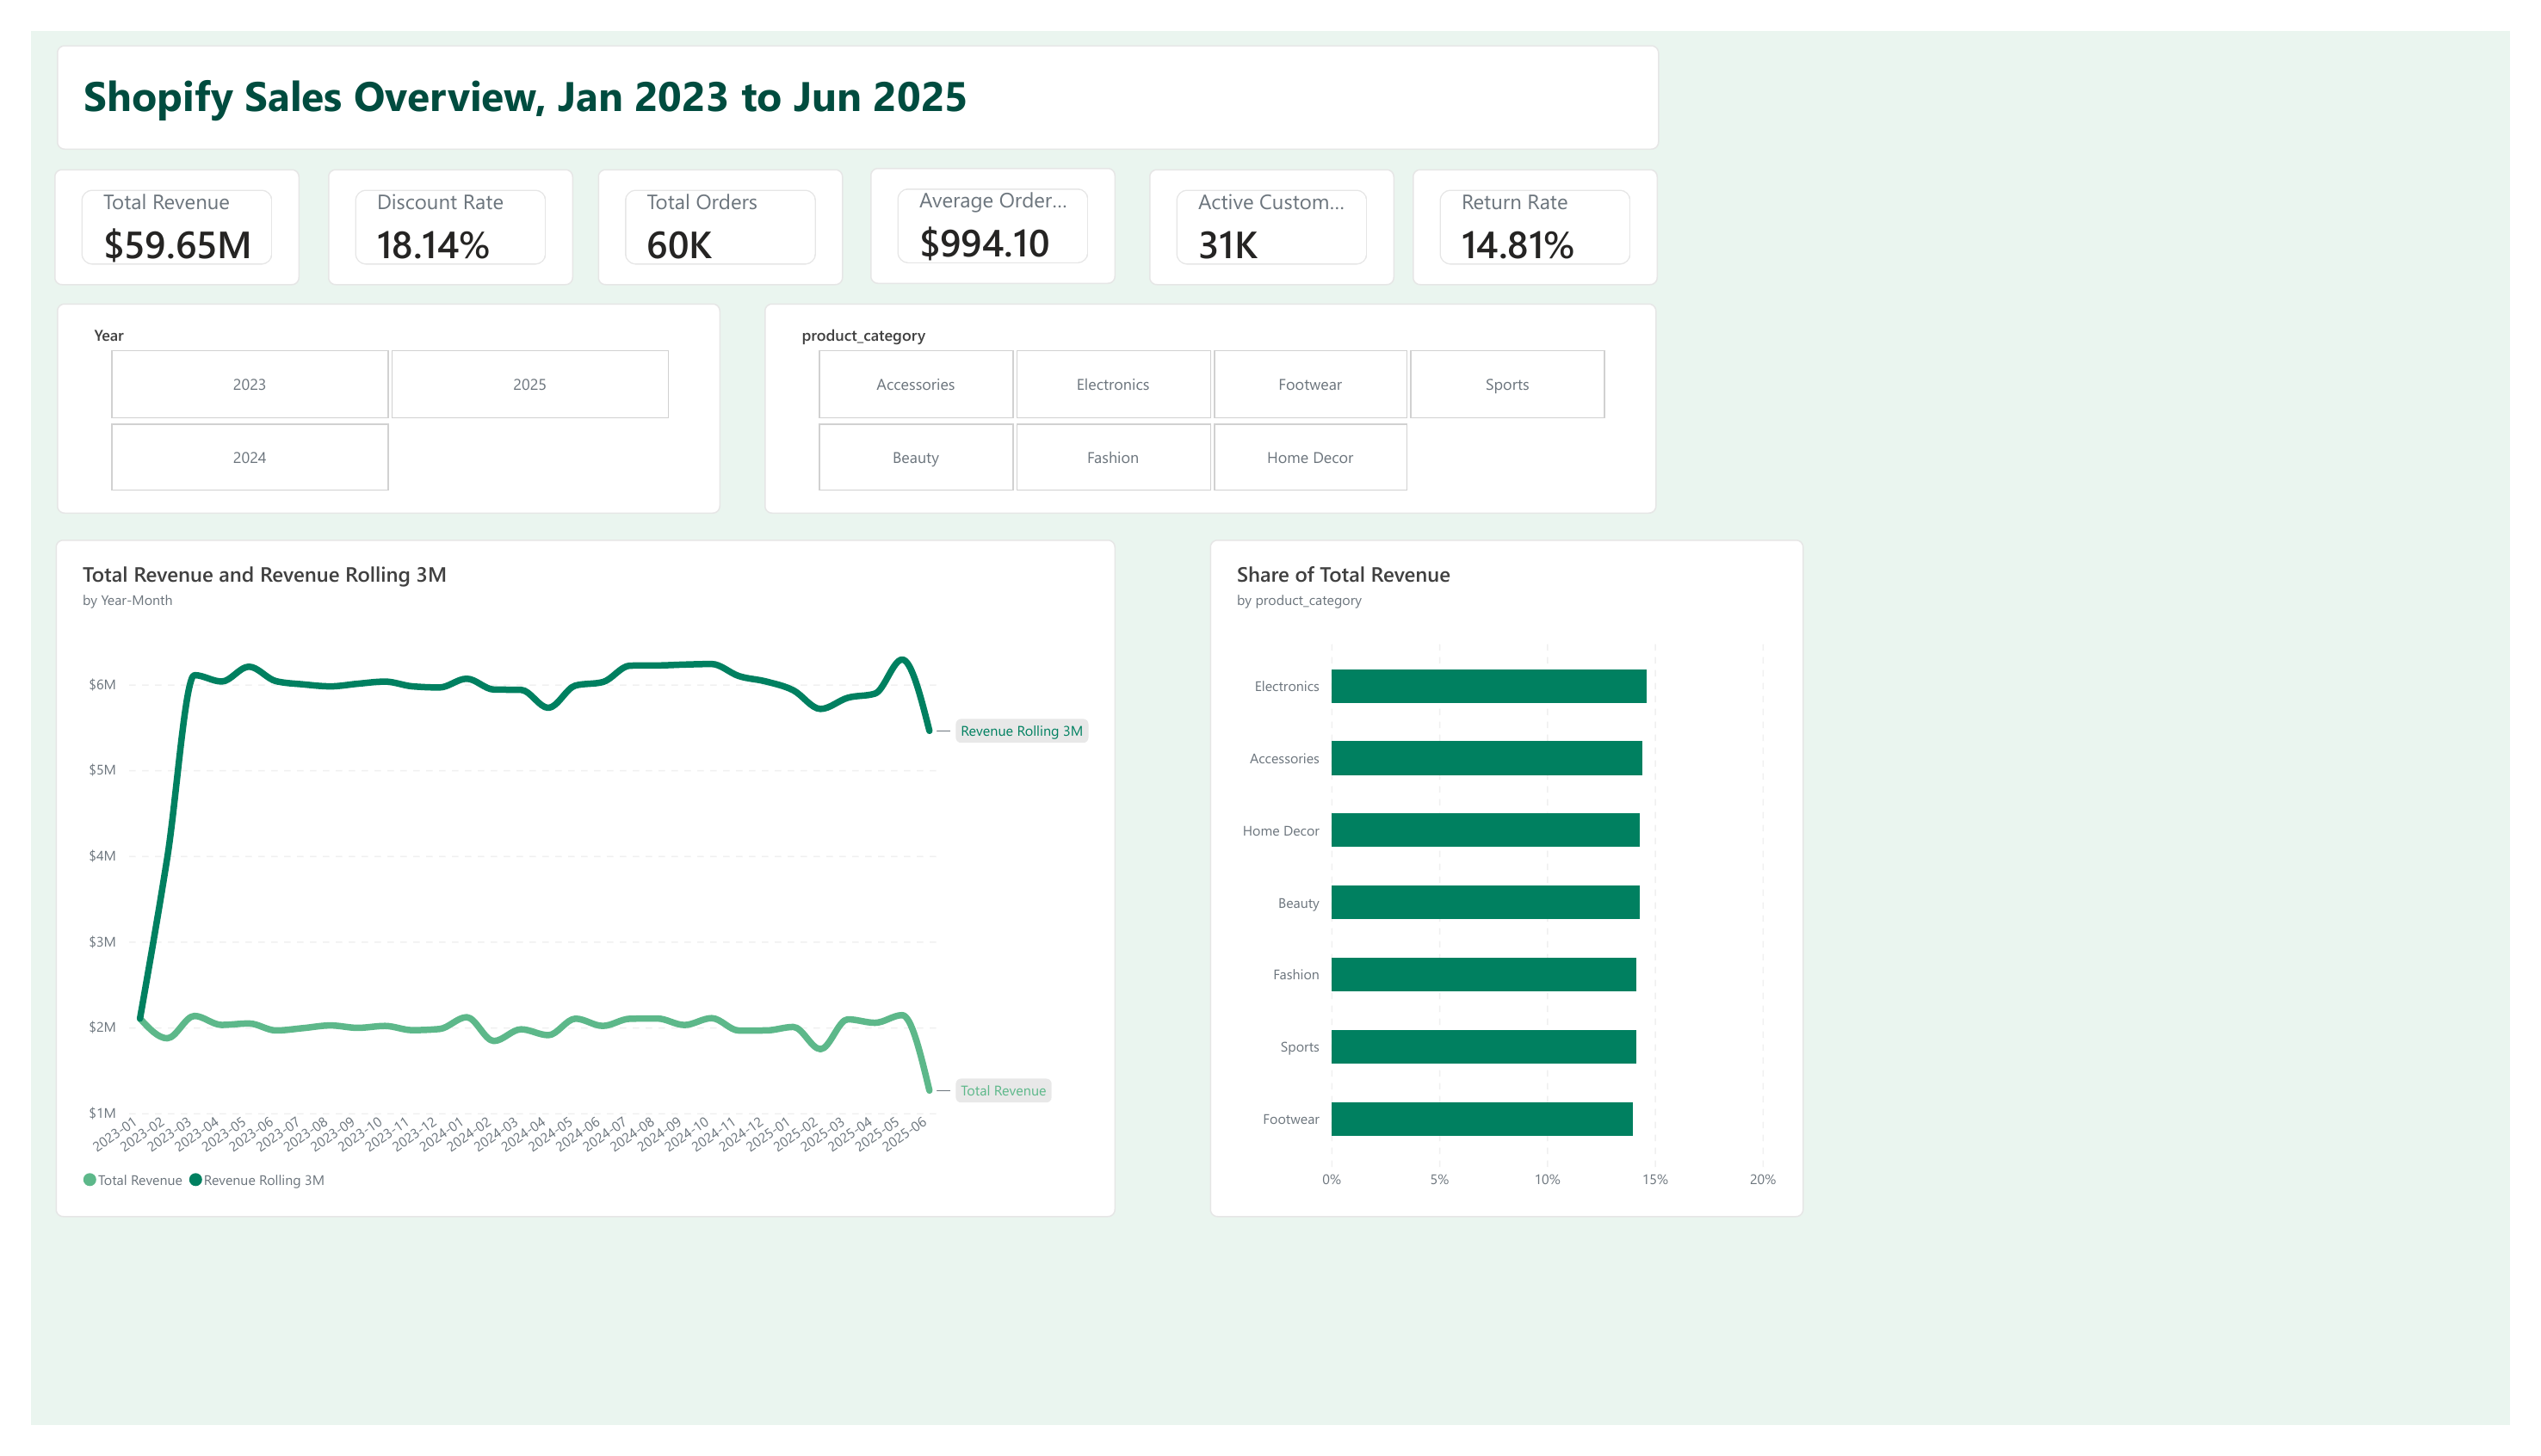

The page's visual inventory and layout, read from the dashboard file:
{"tool":"powerbi","page":{"name":"Overview","canvas":[1920,1080],"ordinal":0},"visuals":[{"type":"cardVisual","fields":{"Data":["_Measures.Total Revenue"]},"box":[18.4,106.6,190,90],"z":0},{"type":"cardVisual","fields":{"Data":["_Measures.Total Orders"]},"box":[439.5,106.6,190,90],"z":1000},{"type":"cardVisual","fields":{"Data":["_Measures.Average Order Value"]},"box":[650,106.6,190,90],"z":2000},{"type":"cardVisual","fields":{"Data":["_Measures.Return Rate"]},"box":[1069.7,106.6,190,90],"z":3000},{"type":"lineChart","fields":{"Category":["Date.Year-Month"],"Y":["_Measures.Total Revenue","_Measures.Revenue Rolling 3M"]},"box":[18.4,394.7,460,525],"z":4000},{"type":"slicer","fields":{"Values":["Date.Year"]},"box":[19.7,210.5,514.5,163.2],"z":5000},{"type":"slicer","fields":{"Values":["Category.product_category"]},"box":[568.4,210.5,690.8,163.2],"z":6000},{"type":"clusteredBarChart","fields":{"Category":["Category.product_category"],"Y":["_Measures.Share of Total Revenue"]},"box":[534.2,394.7,460,525],"z":7000},{"type":"textbox","box":[19.7,10.5,1240.8,81.6],"z":8000},{"type":"cardVisual","fields":{"Data":["_Measures.Active Customers"]},"box":[865.8,106.6,190,90],"z":8001},{"type":"cardVisual","fields":{"Data":["_Measures.Total Profit"]},"box":[230.3,106.6,190,90],"z":8002}]}

Visuals, with their boxes in screenshot pixels (x1, y1, x2, y2), scaled from the page's 1920x1080 canvas onto the 2541x1456 screenshot:
cardVisual - _Measures.Total Revenue: Rect(24, 144, 275, 265)
cardVisual - _Measures.Total Orders: Rect(582, 144, 833, 265)
cardVisual - _Measures.Average Order Value: Rect(860, 144, 1112, 265)
cardVisual - _Measures.Return Rate: Rect(1416, 144, 1667, 265)
lineChart - Date.Year-Month x _Measures.Total Revenue: Rect(24, 532, 634, 1240)
slicer - Date.Year: Rect(26, 284, 707, 503)
slicer - Category.product_category: Rect(752, 284, 1666, 503)
clusteredBarChart - Category.product_category x _Measures.Share of Total Revenue: Rect(707, 532, 1316, 1240)
textbox: Rect(26, 14, 1668, 124)
cardVisual - _Measures.Active Customers: Rect(1146, 144, 1397, 265)
cardVisual - _Measures.Total Profit: Rect(305, 144, 556, 265)
